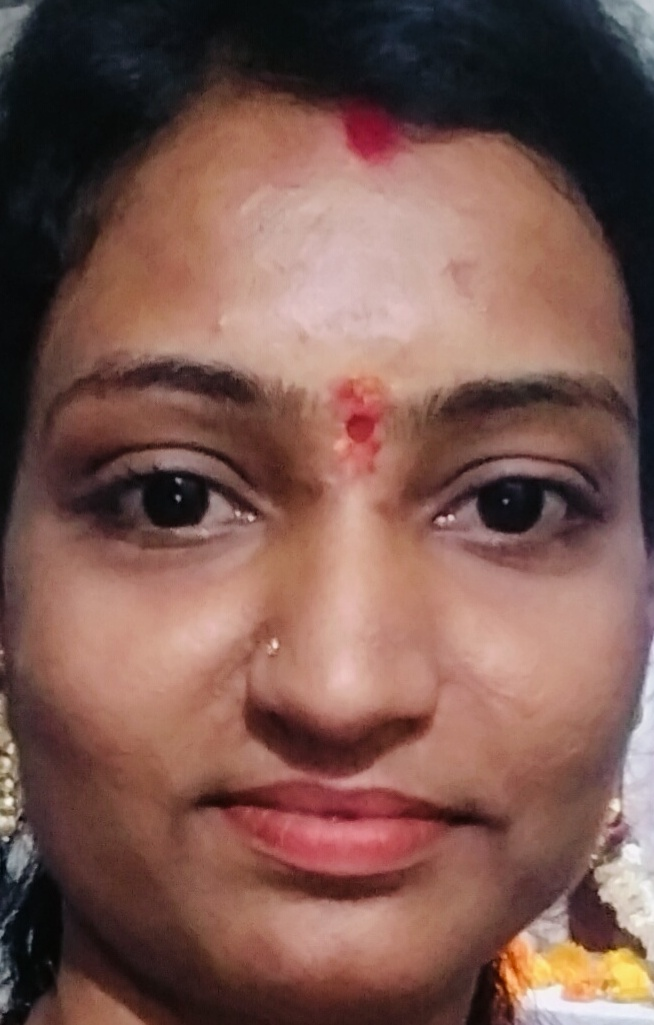pustule: (201, 301, 255, 345)
